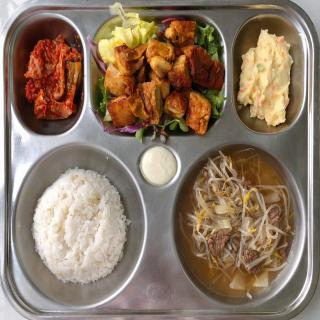Nasi: (36, 169, 130, 288)
